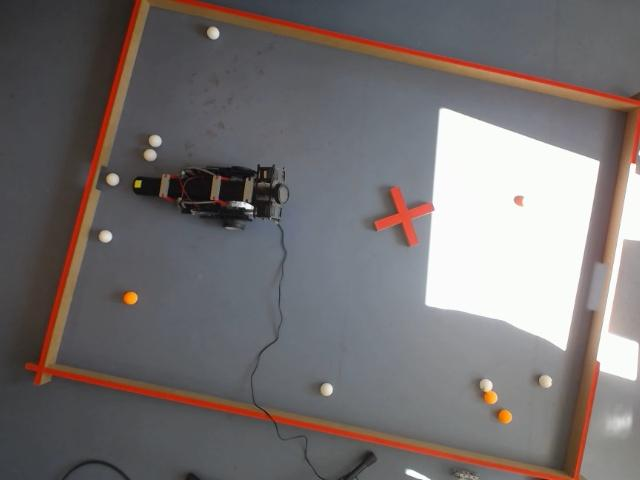orange: (121, 291, 139, 305), (482, 389, 498, 404), (498, 409, 512, 424)
robot: (132, 164, 290, 230)
robot-front: (132, 176, 156, 196)
white: (538, 374, 554, 390), (206, 24, 220, 42), (318, 382, 334, 397), (105, 172, 121, 187), (479, 378, 493, 392), (99, 229, 113, 243), (148, 134, 162, 148), (144, 149, 157, 162)
